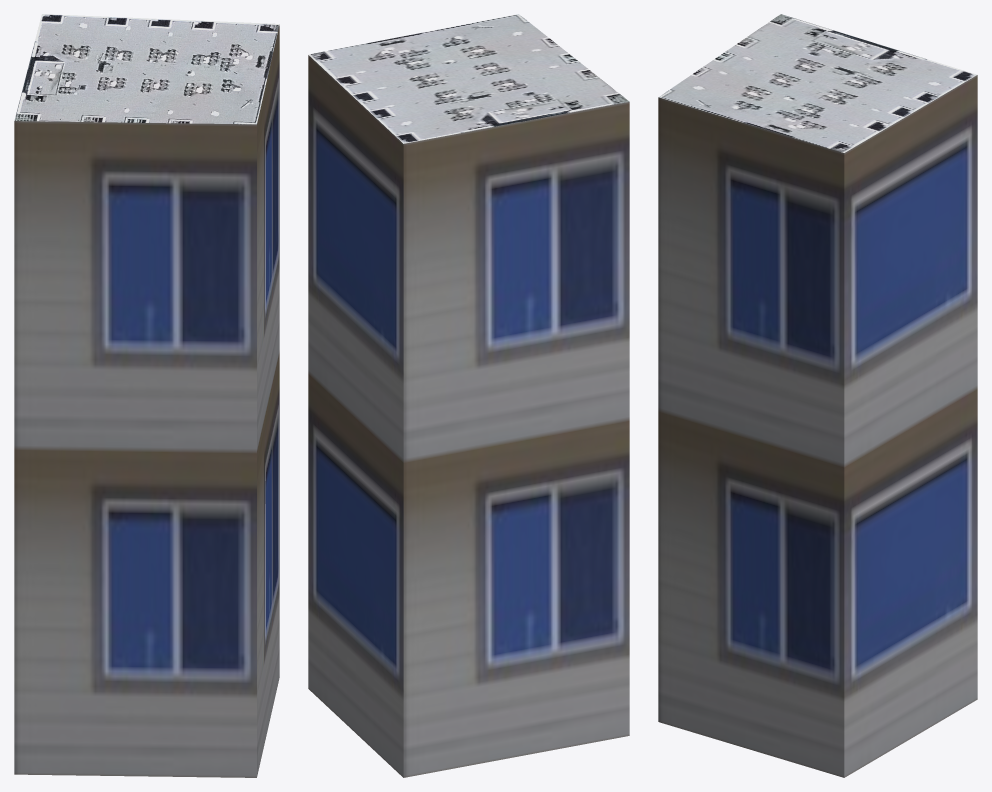
Rendered from ResTex__5043.fbx.
The picture shows the model from 3 angles, left to right: view 1: azimuth 30°, elevation 25°; view 2: azimuth 150°, elevation 25°; view 3: azimuth 270°, elevation 25°; orthographic projection. The views are drawn at different scales.
Parts seen in each view (by area): view 1: CityEngineMaterial_23_m, CityEngineMaterial_4_m; view 2: CityEngineMaterial_23_m, CityEngineMaterial_4_m; view 3: CityEngineMaterial_23_m, CityEngineMaterial_4_m.
Boxes of the visible parts, x1,y1,x2,y2 form: CityEngineMaterial_23_m: [14, 25, 279, 777]; CityEngineMaterial_4_m: [14, 14, 279, 124]; CityEngineMaterial_23_m: [308, 55, 629, 777]; CityEngineMaterial_4_m: [308, 14, 629, 143]; CityEngineMaterial_23_m: [658, 75, 977, 777]; CityEngineMaterial_4_m: [659, 14, 977, 152].
Size of the model in its own units: 2.87 by 6 by 2.78.
Materials: 2 (2 with a texture image).
